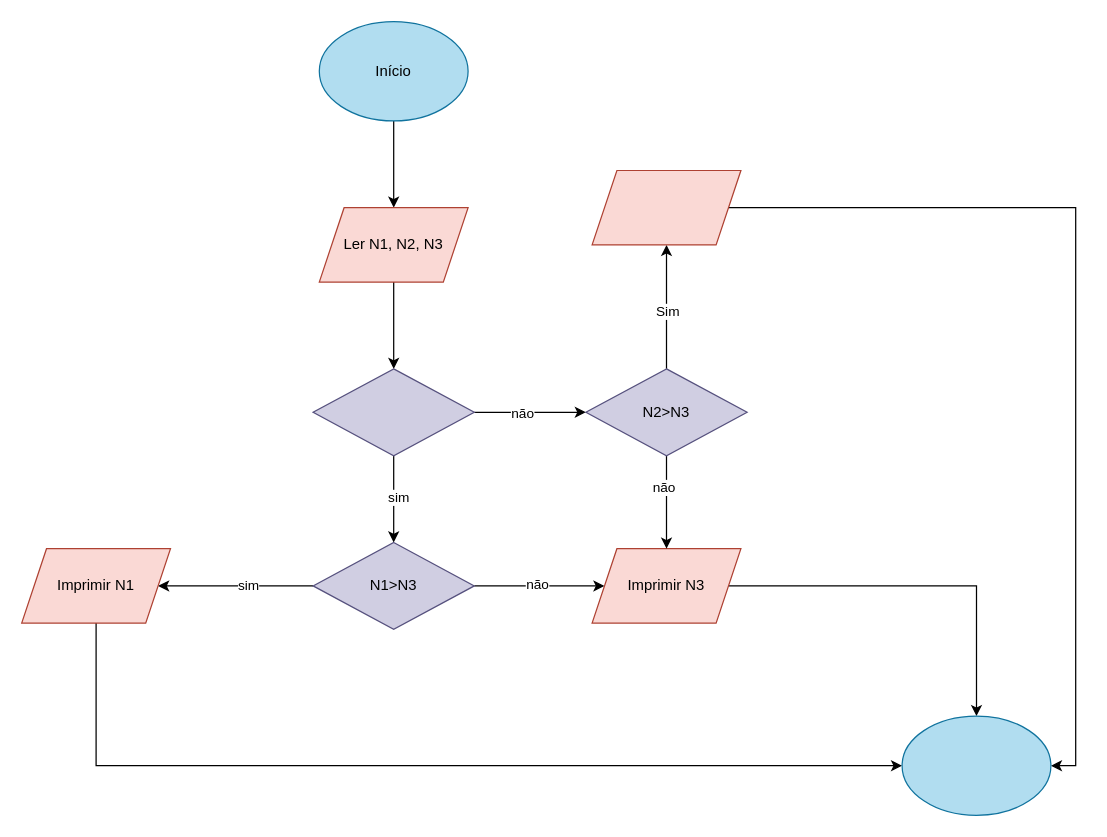
Some shapes in this 1107 by 837 pixel diagram are drawn without their labels. The shapes that lost their labels are listed below. From the top down, each one's centre as x and y in pixels, then its label:
At pixel 666 207: "Imprimir N2".
At pixel 393 412: "N1>N2".
At pixel 976 765: "Fim".
